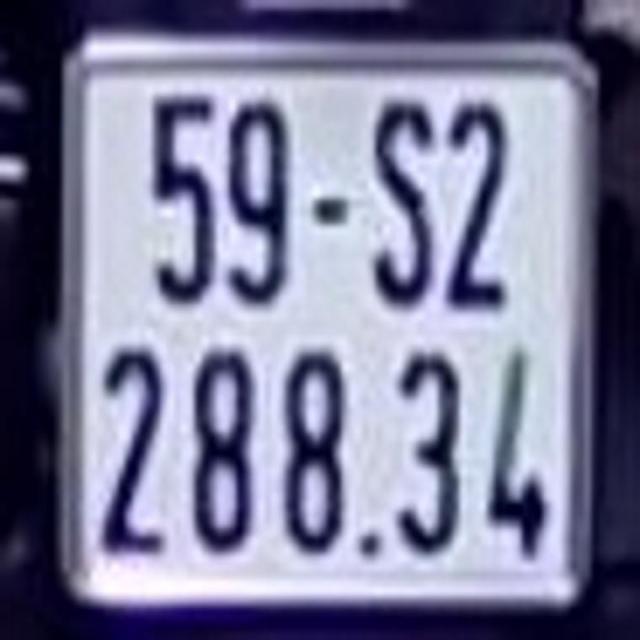2: (101, 350, 174, 556), (447, 102, 508, 308)
3: (396, 348, 462, 550)
4: (488, 350, 546, 558)
5: (149, 96, 219, 300)
8: (192, 355, 252, 551), (288, 354, 343, 553)
9: (227, 97, 289, 298)
S: (366, 103, 434, 304)
